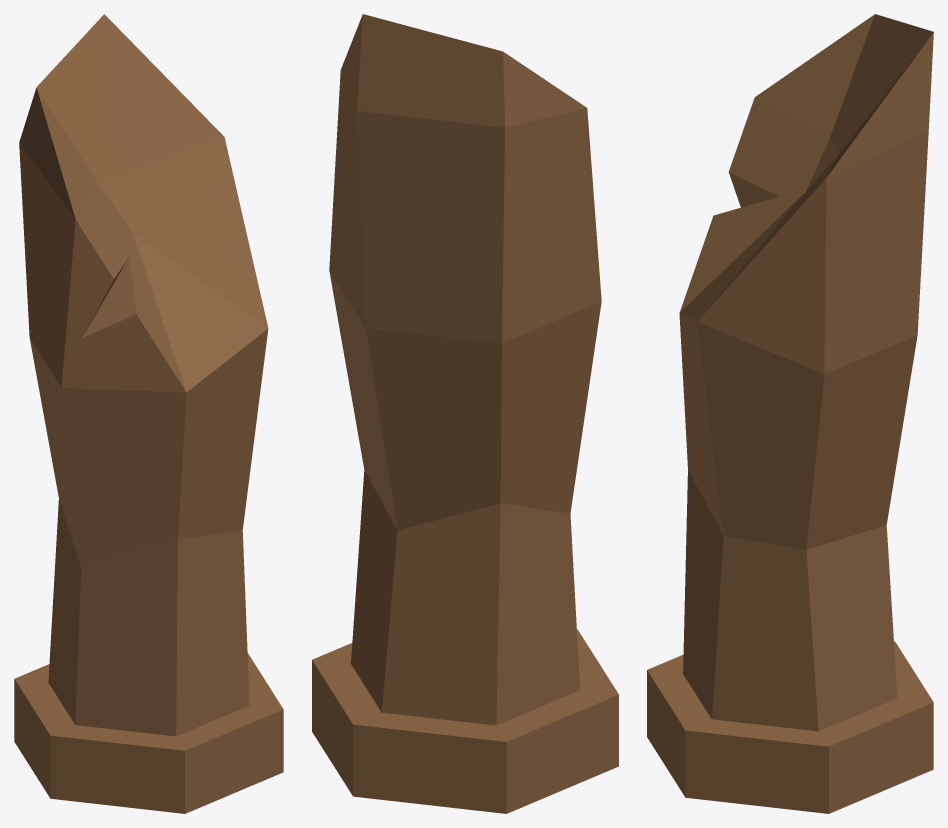
Rendered from Ruin_1_Light_Brown.fbx.
The picture shows the model from 3 angles, left to right: view 1: azimuth 30°, elevation 25°; view 2: azimuth 150°, elevation 25°; view 3: azimuth 270°, elevation 25°; orthographic projection. The views are drawn at different scales.
Visible parts, largest first — view 1: Ruin_1_Light_Brown; view 2: Ruin_1_Light_Brown; view 3: Ruin_1_Light_Brown.
Part boxes in pixels (bbox=[...]): Ruin_1_Light_Brown: bbox=[14, 14, 283, 813]; Ruin_1_Light_Brown: bbox=[312, 14, 618, 813]; Ruin_1_Light_Brown: bbox=[647, 14, 933, 813].
Size of the model in its own units: 116 by 327 by 116.
